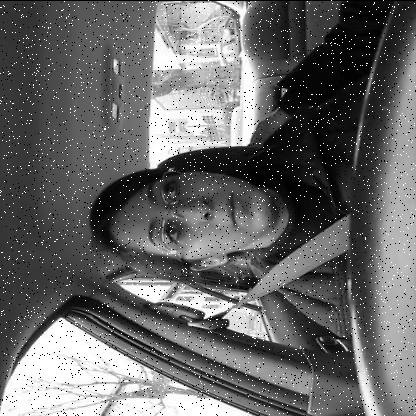seatbelt: (79, 153, 351, 331)
